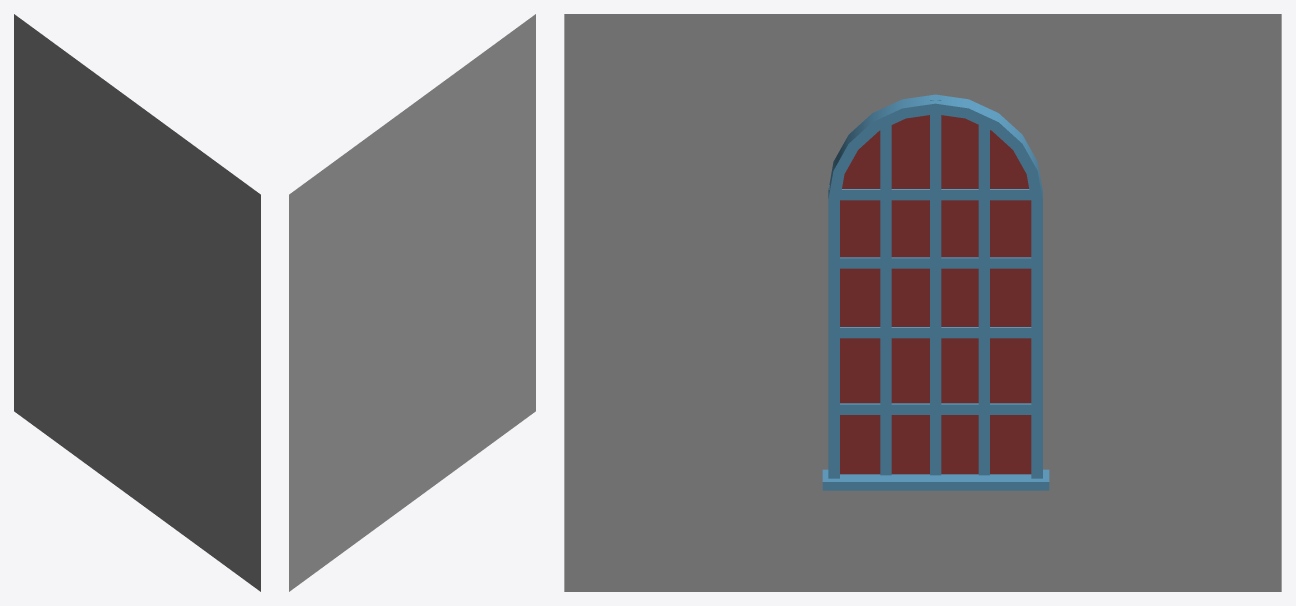
Rendered from Prop_Wallext_8x9_BigWindows_03.fbx.
The picture shows the model from 3 angles, left to right: view 1: azimuth 30°, elevation 25°; view 2: azimuth 150°, elevation 25°; view 3: azimuth 270°, elevation 25°; orthographic projection. The views are drawn at different scales.
Parts seen in each view (by area): view 1: Prop_Wallext_8x9_BigWindows_03; view 2: Prop_Wallext_8x9_BigWindows_03; view 3: Prop_Wallext_8x9_BigWindows_03.
Part boxes in pixels (x1,y1,x2,y2): Prop_Wallext_8x9_BigWindows_03: [14, 14, 260, 591]; Prop_Wallext_8x9_BigWindows_03: [289, 14, 535, 591]; Prop_Wallext_8x9_BigWindows_03: [564, 14, 1281, 591].
Size of the model in its own units: 0.3766 by 8 by 9.
